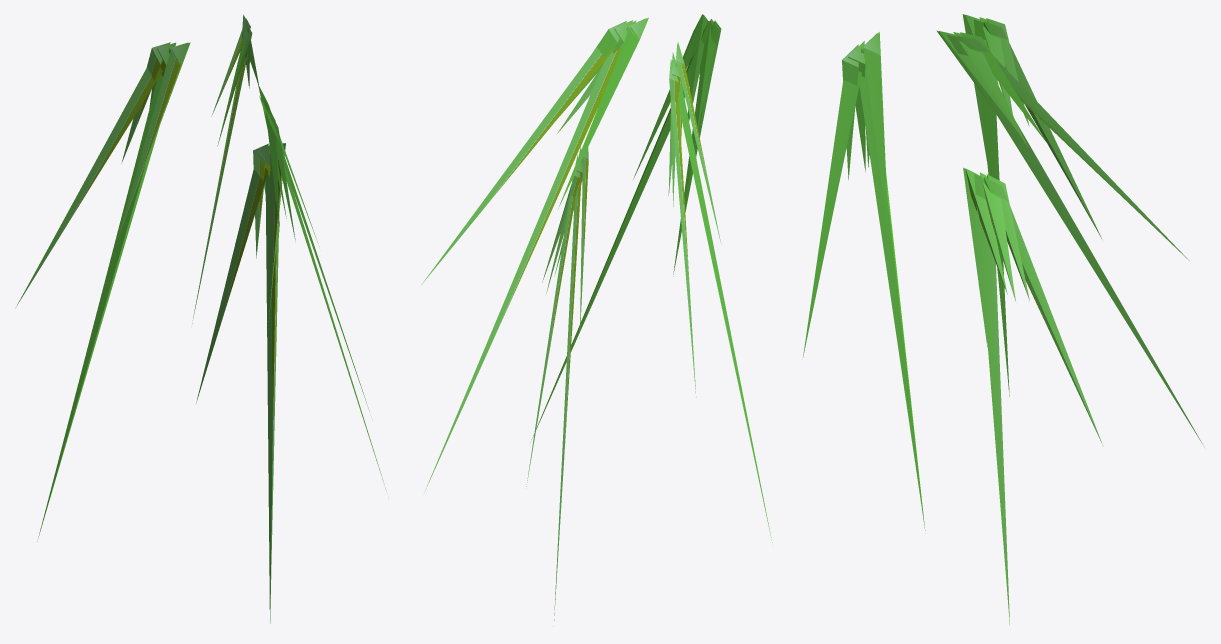
Rendered from foliage.fbx.
3 renders of one model, left to right at view 1: azimuth 30°, elevation 25°; view 2: azimuth 150°, elevation 25°; view 3: azimuth 270°, elevation 25°, orthographic. The views are drawn at different scales.
Visible parts, largest first — view 1: Cone.001; view 2: Cone.001; view 3: Cone.001.
Part boxes in pixels (<box>): Cone.001: <box>15,14,386,623</box>; Cone.001: <box>421,14,772,626</box>; Cone.001: <box>803,14,1204,624</box>.
Size of the model in its own units: 264 by 525 by 334.
